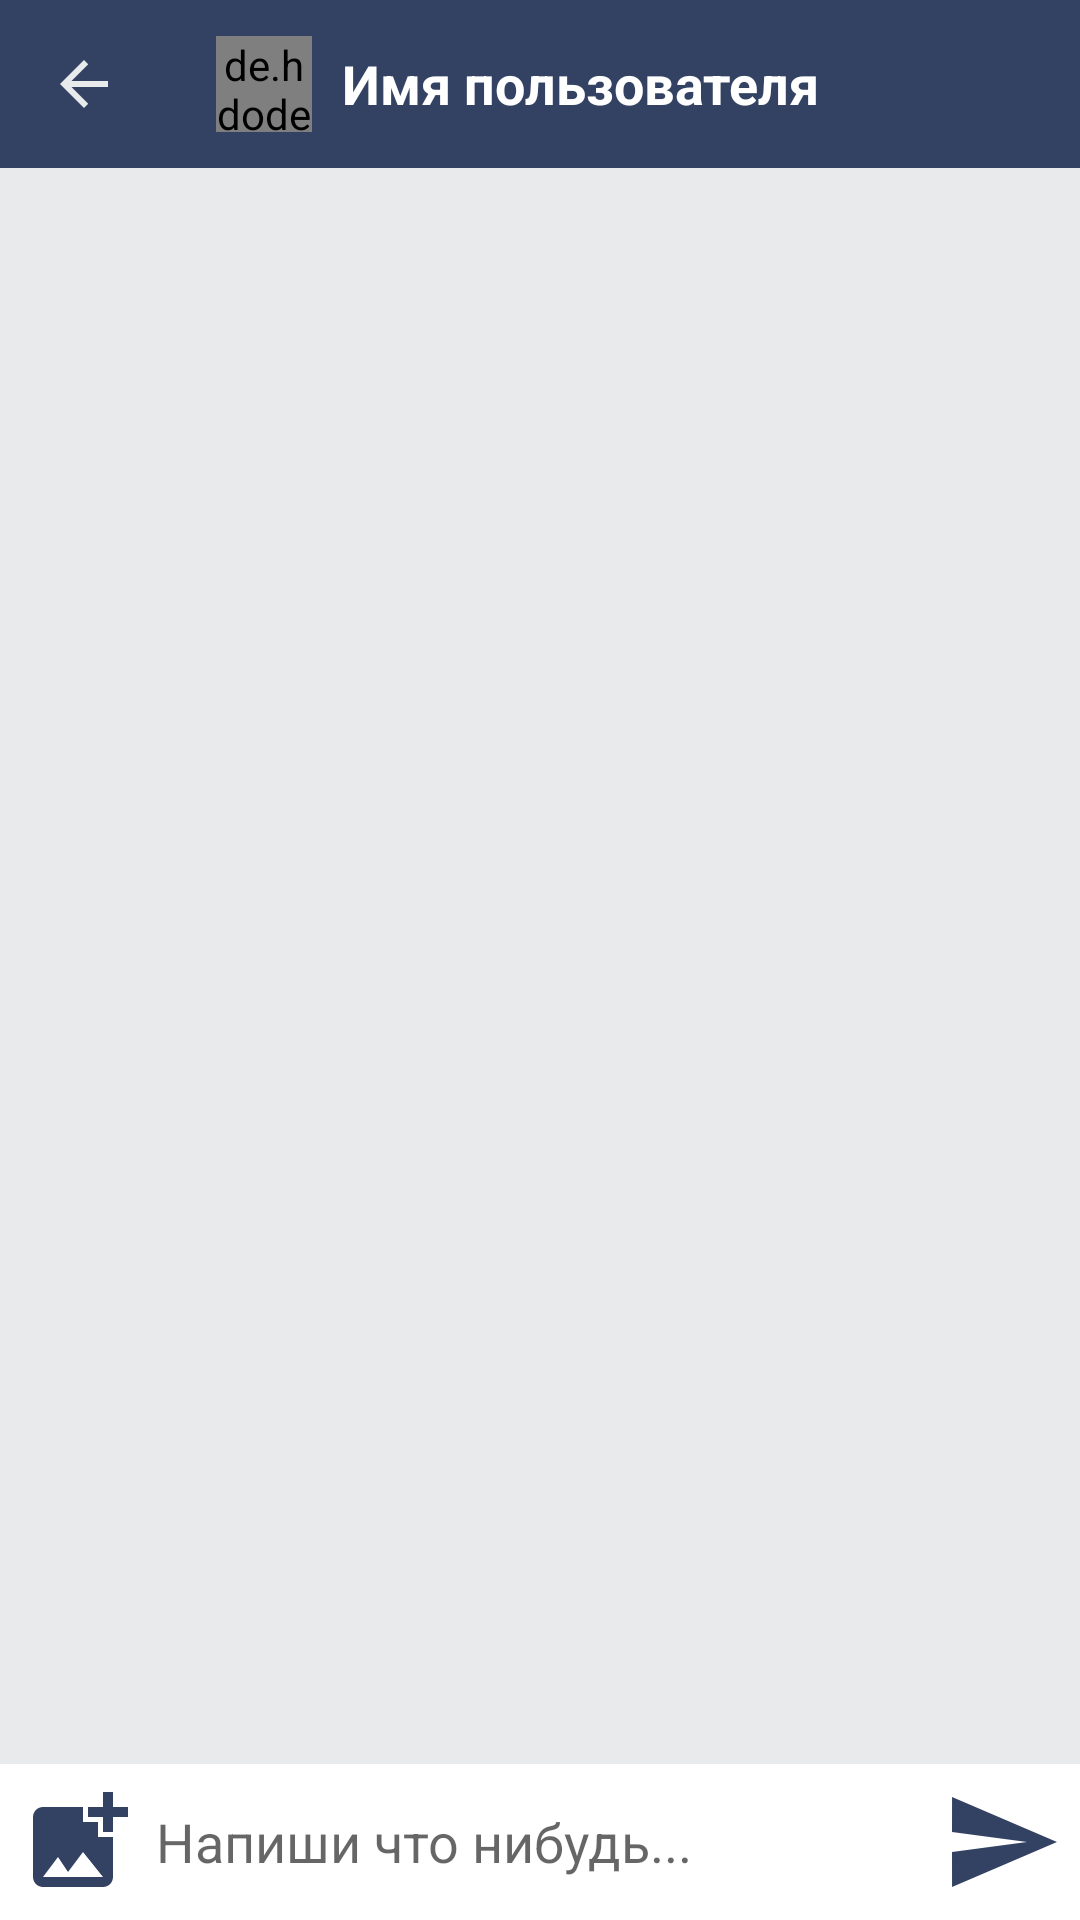

Named icons in this screenshot (1080px x 1920px) and their bounding boxes, (x1,y1,x2,y2):
add photo: (33,1792,128,1887)
send: (952,1797,1057,1887)
